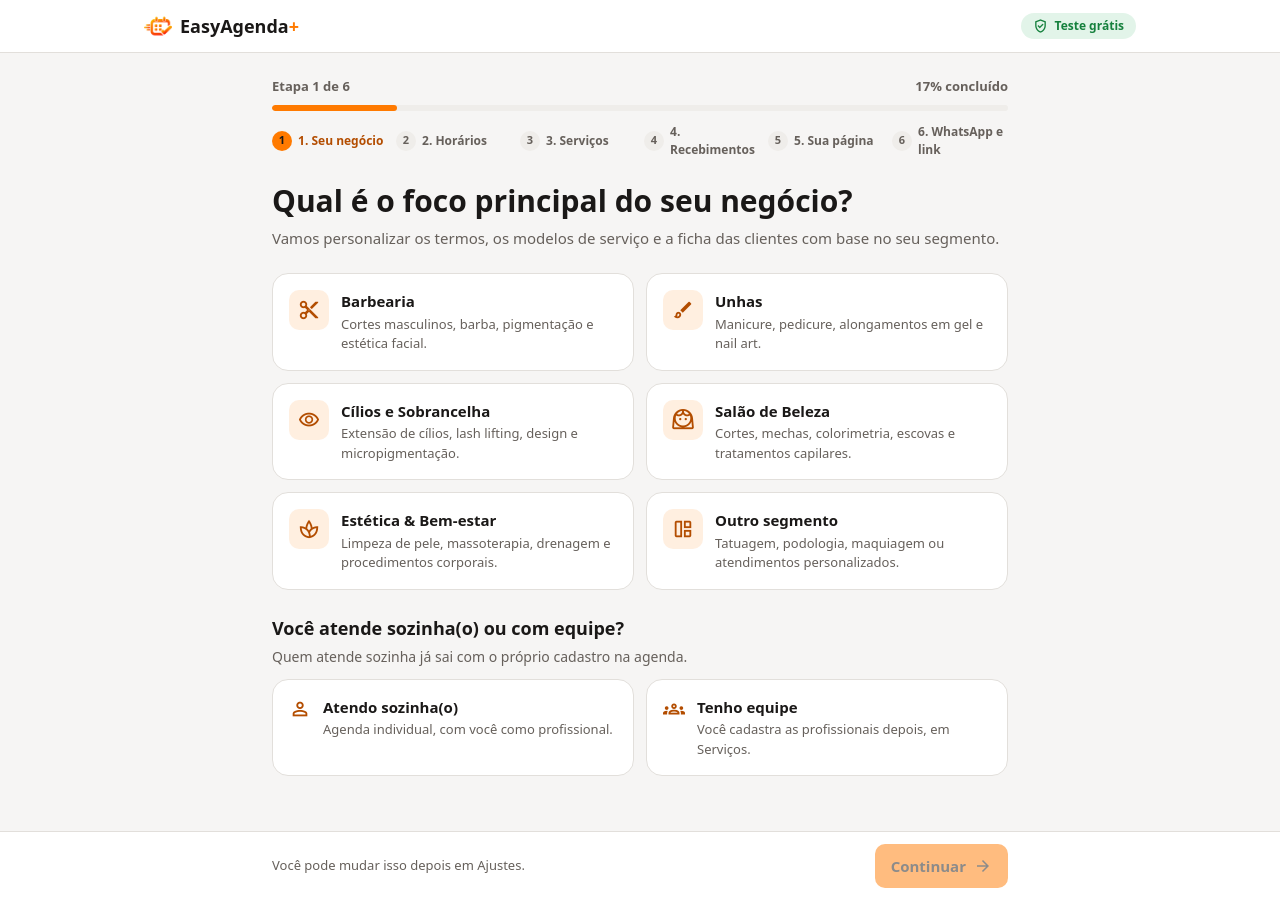
it: OnboardingFlow › etapa 1 só avança com segmento e equipe; salva, atualiza a sessão e vai para os horários
Check: the button "Continuar" is disabled, box [875, 844, 1008, 888]
Click the radio button labelled "Barbearia" at (453, 322), box [272, 273, 634, 370]
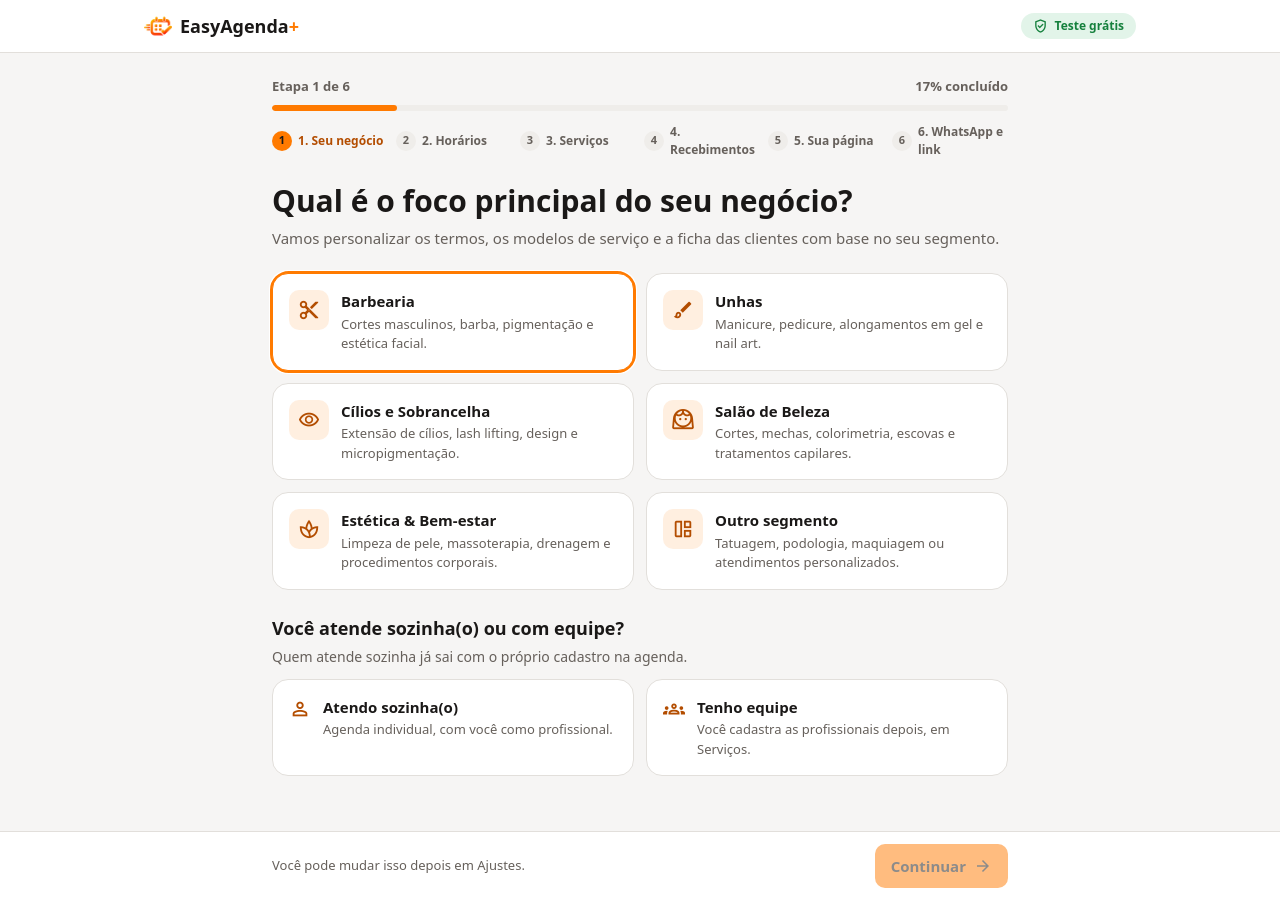
Check: the button "Continuar" is disabled, box [875, 844, 1008, 888]
Click the radio button labelled "Atendo sozinha" at (453, 727), box [272, 678, 634, 776]
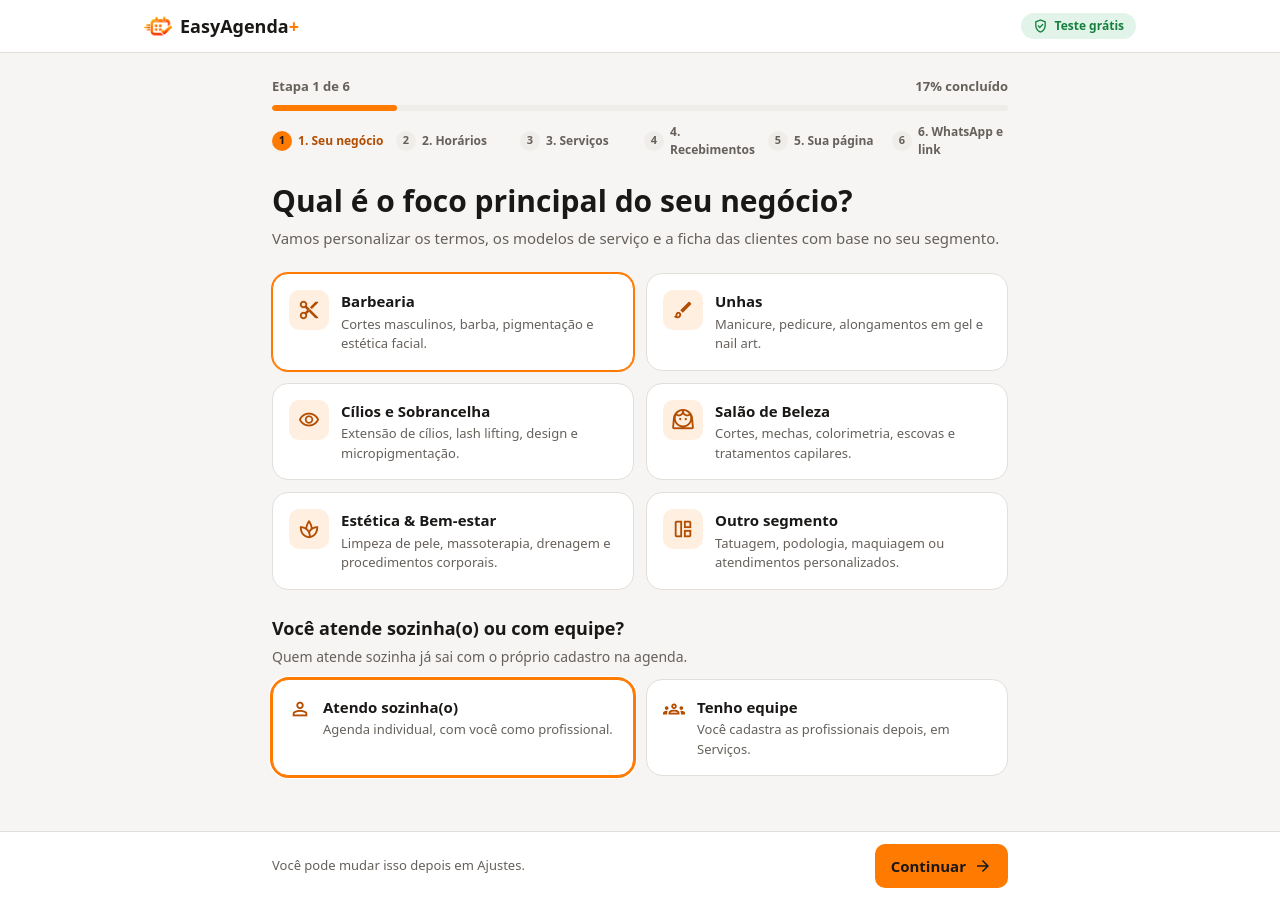
Click the button "Continuar" at (941, 866), box [875, 844, 1008, 888]
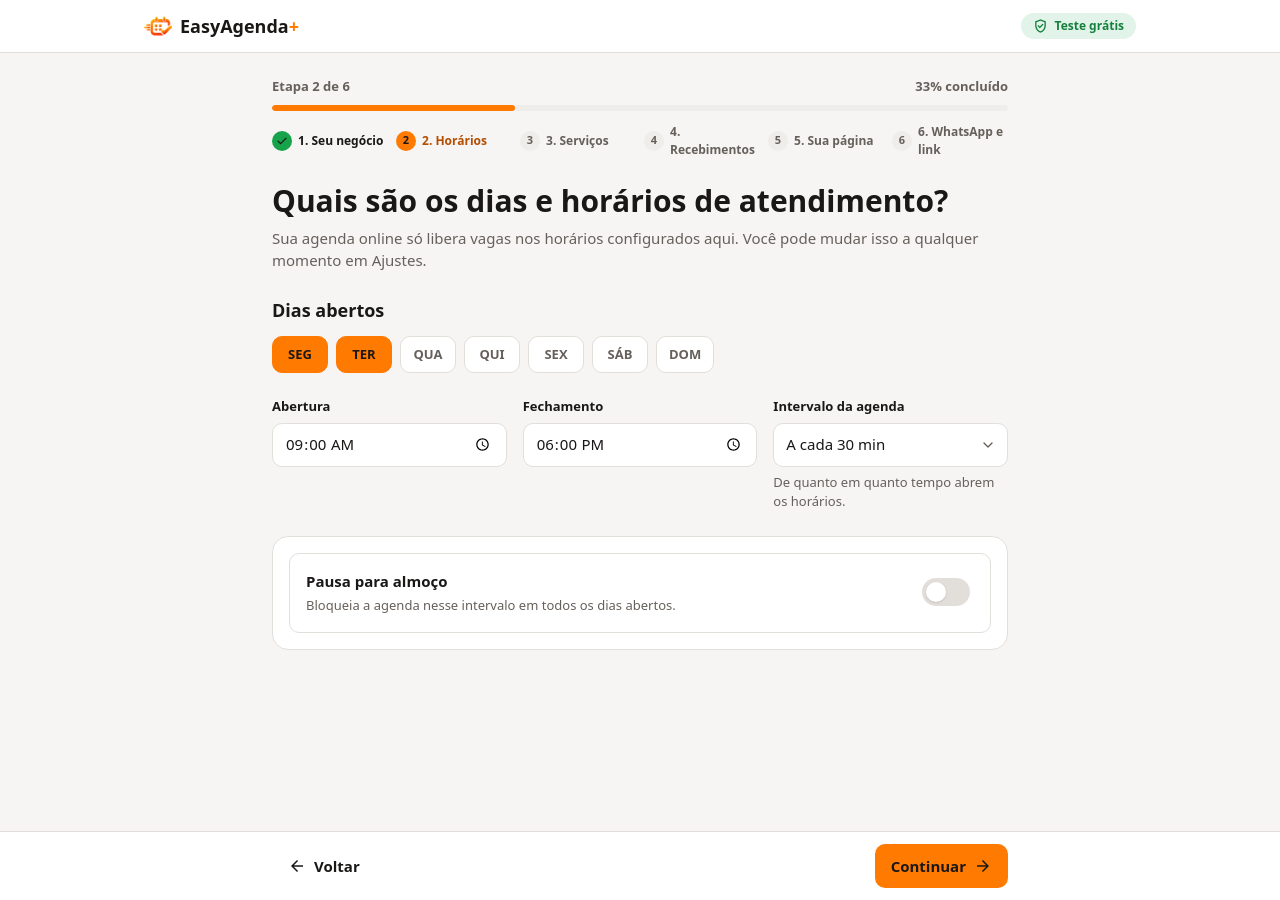
Check: the heading "Quais são os dias e horários de atendimento?" is shown, box [272, 182, 1008, 218]
